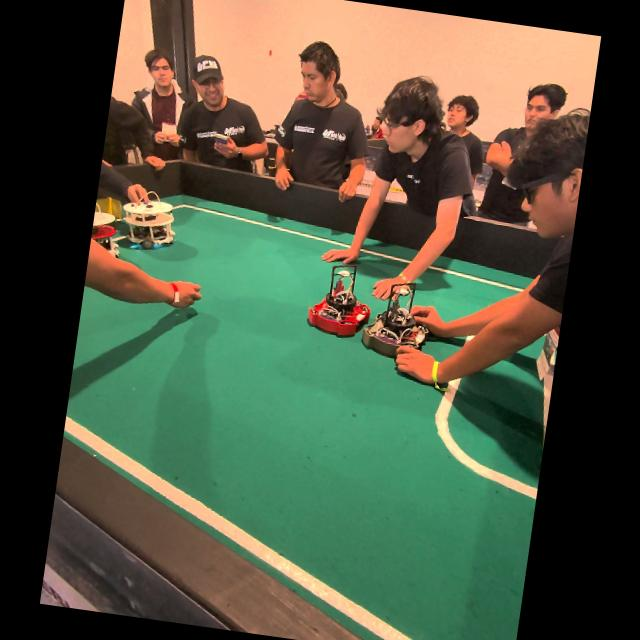robot: (307, 265, 427, 357), (123, 200, 174, 249), (90, 203, 117, 257)
